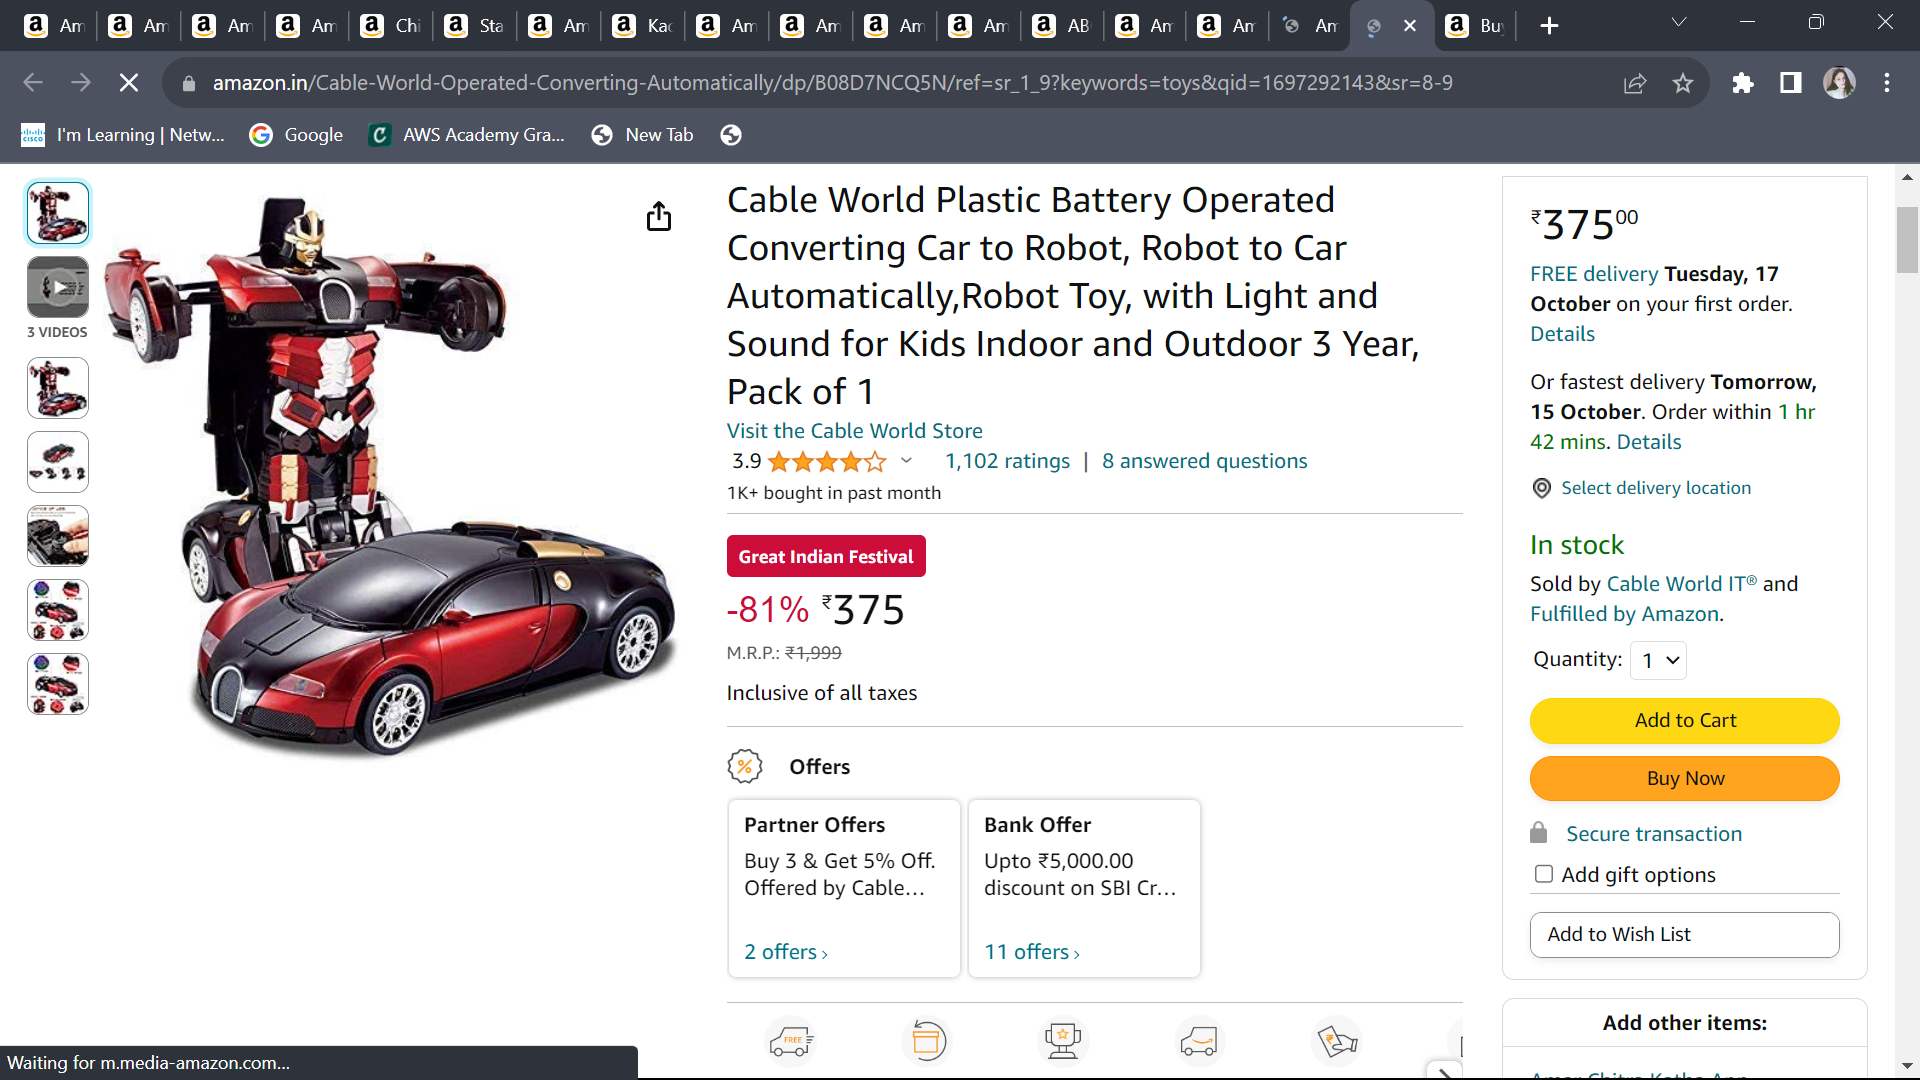Image: (102, 191, 678, 926), (373, 158, 394, 262)
Paragraph: (704, 156, 1439, 421), (704, 741, 1224, 976), (711, 411, 1356, 520), (1523, 687, 1863, 812), (1505, 368, 1849, 477), (1516, 522, 1821, 640), (1487, 800, 1812, 899), (1502, 262, 1818, 349), (716, 579, 956, 678), (1516, 914, 1797, 961), (720, 678, 994, 725), (1516, 196, 1660, 262), (1499, 477, 1764, 513), (1514, 640, 1696, 675)
